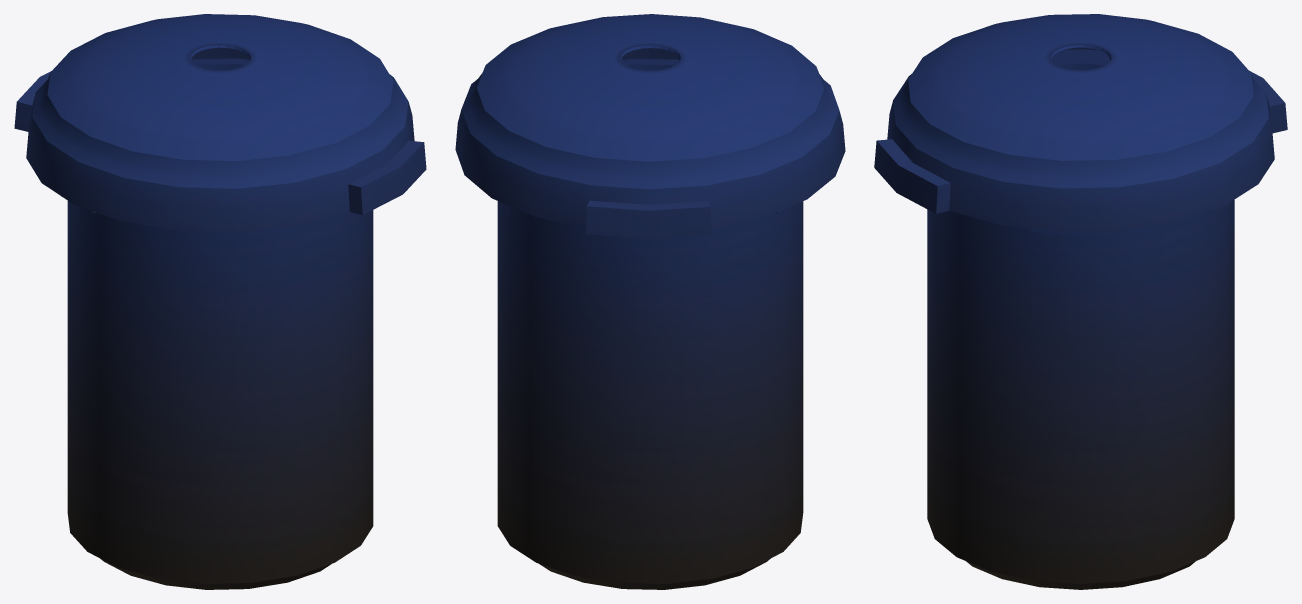
The model's file is trashcanpaper.glb.
3 views of the same model, side by side, from view 1: azimuth 30°, elevation 25°; view 2: azimuth 150°, elevation 25°; view 3: azimuth 270°, elevation 25° (orthographic).
Visible parts, largest first — view 1: polySurface1, pSphere1; view 2: polySurface1, pSphere1; view 3: polySurface1, pSphere1.
Part boxes in pixels (x1,y1,x2,y2): polySurface1: (61,58,373,589); pSphere1: (14,14,426,232); polySurface1: (497,58,803,589); pSphere1: (455,14,845,238); polySurface1: (927,49,1234,589); pSphere1: (874,14,1287,231).
Bounding box in the file's own units: 0.2987 × 0.4044 × 0.3186.
Materials: 1 (1 with a texture image).
